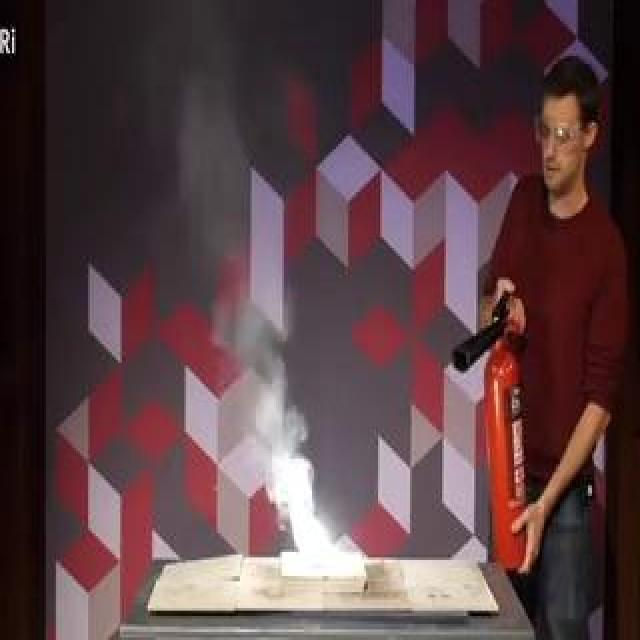Fire: (284, 485, 344, 568)
Smoke: (158, 0, 315, 446)
